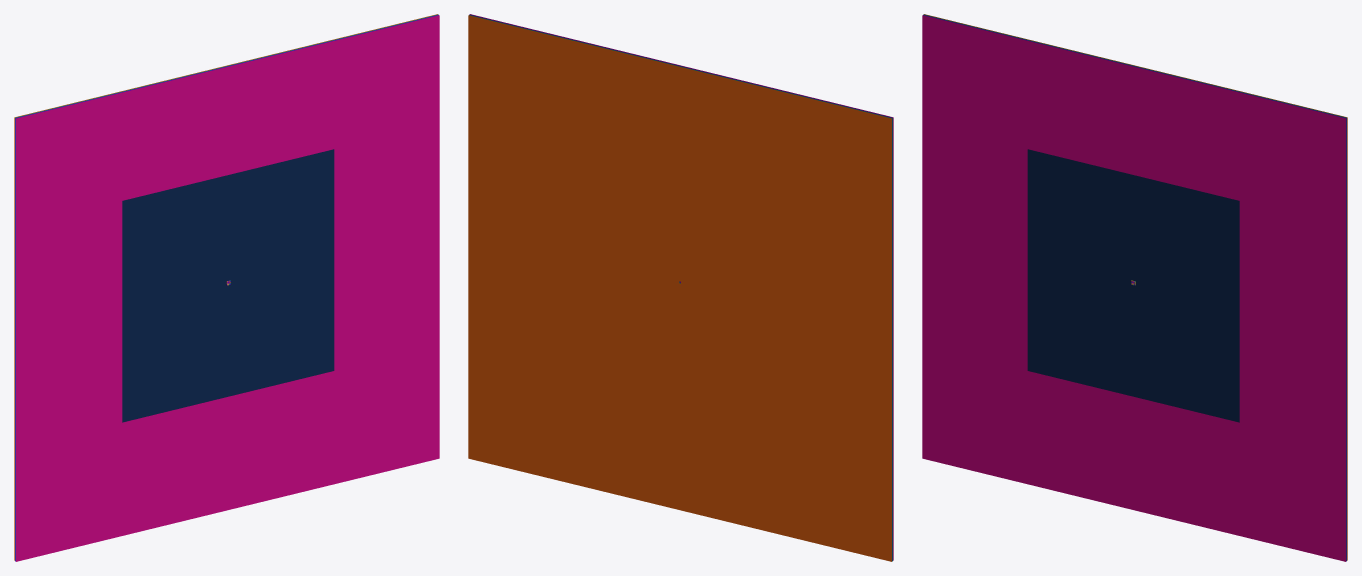
The model's file is door2.glb.
3 renders of one model, left to right at view 1: azimuth 30°, elevation 25°; view 2: azimuth 150°, elevation 25°; view 3: azimuth 330°, elevation 25°, orthographic.
Parts seen in each view (by area): view 1: mask, mask.001, mask.002, mask.003, mask.004; view 2: mask.004, mask.003, mask.002, mask; view 3: mask, mask.001, mask.002, mask.003, mask.004.
Part boxes in pixels (<box>): mask: <box>16,15,439,561</box>; mask.001: <box>122,149,334,422</box>; mask.002: <box>15,15,438,561</box>; mask.003: <box>15,14,438,560</box>; mask.004: <box>14,14,437,560</box>; mask.004: <box>468,15,891,561</box>; mask.003: <box>469,15,892,561</box>; mask.002: <box>469,14,892,560</box>; mask: <box>470,14,893,560</box>; mask: <box>922,15,1345,561</box>; mask.001: <box>1027,149,1239,422</box>; mask.002: <box>923,15,1346,561</box>; mask.003: <box>923,14,1346,560</box>; mask.004: <box>924,14,1347,560</box>.
Size of the model in its own units: 919 by 919 by 10.01.
2 materials, 1 textured.
